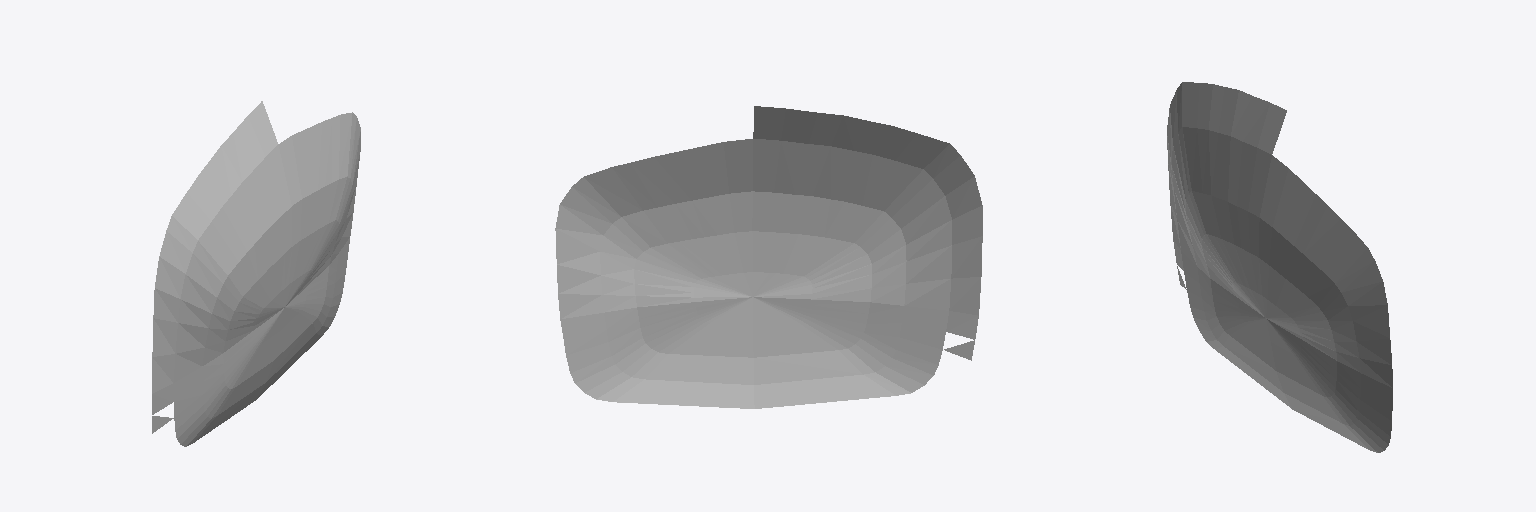
File: spider.obj
The picture shows the model from 3 angles: view 1: azimuth 30°, elevation 25°; view 2: azimuth 150°, elevation 25°; view 3: azimuth 270°, elevation 25°; orthographic projection.
Parts seen in each view (by area): view 1: araneus angulatus.obj; view 2: araneus angulatus.obj; view 3: araneus angulatus.obj.
Part boxes in pixels (left/top/right/bottom): araneus angulatus.obj: left=152, top=101, right=360, bottom=446; araneus angulatus.obj: left=555, top=106, right=982, bottom=408; araneus angulatus.obj: left=1167, top=82, right=1392, bottom=452.
Bounding box in the file's own units: 0.8061 × 0.7296 × 0.4981.